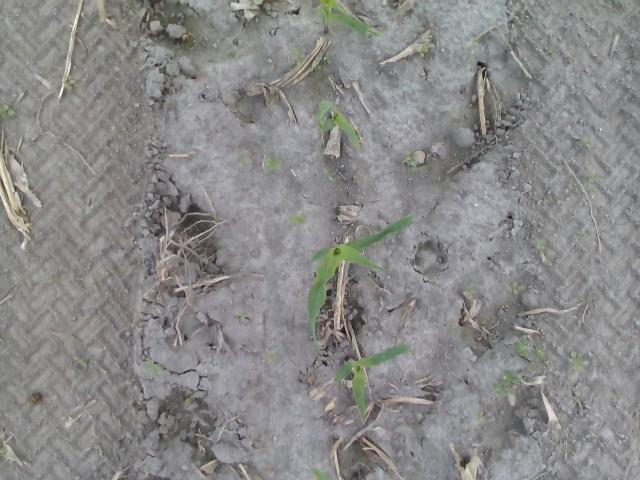Maize: (306, 213, 418, 356), (333, 343, 412, 424), (317, 0, 383, 38), (316, 98, 362, 149), (310, 466, 360, 480)
Weeds: (491, 371, 524, 398), (566, 350, 588, 371), (262, 153, 282, 174), (144, 358, 166, 376), (289, 210, 309, 226), (292, 47, 306, 68), (507, 280, 526, 294), (314, 52, 328, 71), (402, 150, 418, 166), (62, 76, 78, 92), (514, 338, 528, 356), (588, 169, 598, 194), (72, 356, 90, 368), (0, 104, 15, 118), (418, 40, 430, 57), (266, 350, 279, 363), (474, 410, 486, 424), (184, 392, 196, 406), (532, 238, 546, 250), (580, 136, 594, 148), (533, 347, 544, 361), (465, 283, 477, 294), (323, 168, 333, 180), (0, 440, 6, 456), (526, 363, 535, 373), (236, 314, 246, 322), (470, 36, 478, 46), (573, 395, 580, 405), (548, 48, 556, 56), (239, 157, 246, 165), (468, 56, 475, 64), (452, 108, 458, 116), (92, 285, 99, 290)
